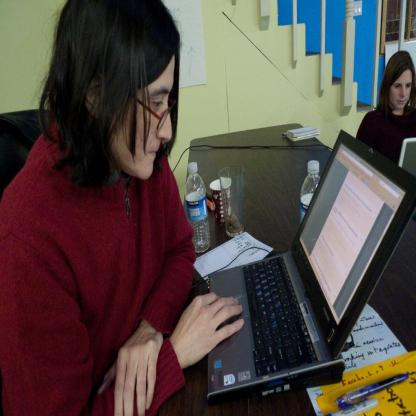board: (200, 141, 392, 411), (186, 157, 212, 254), (218, 165, 247, 240), (298, 158, 321, 229), (211, 179, 231, 224), (398, 134, 416, 176)
